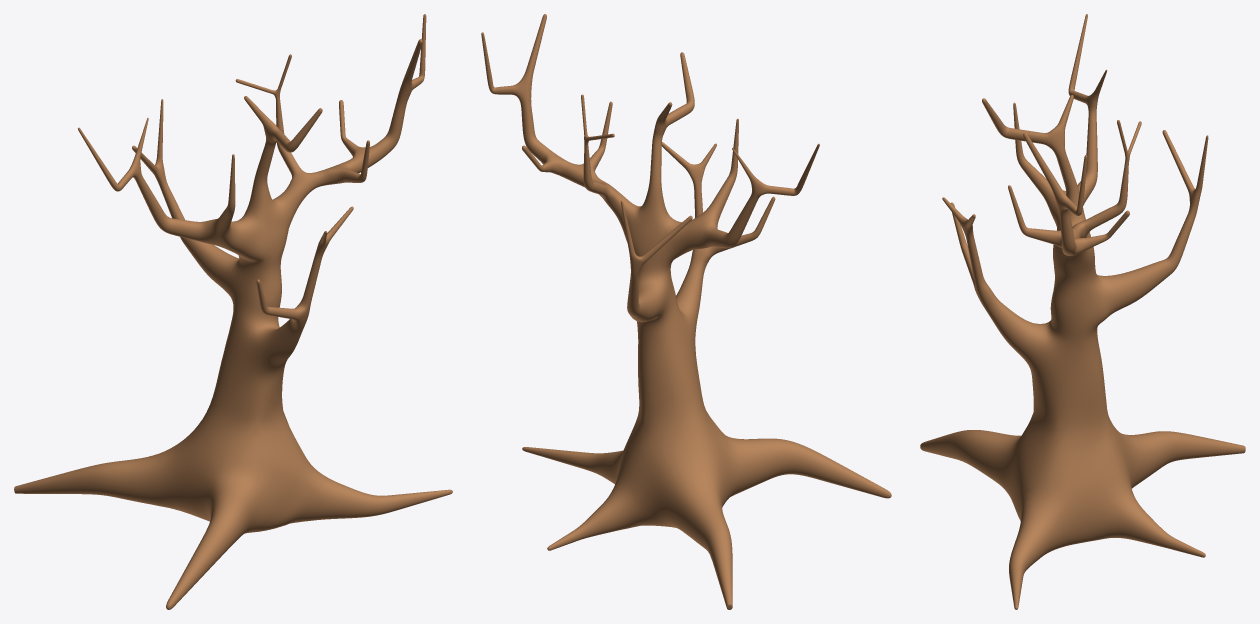
Rendered from AgacHighPoly.fbx.
The picture shows the model from 3 angles, left to right: view 1: azimuth 30°, elevation 25°; view 2: azimuth 150°, elevation 25°; view 3: azimuth 270°, elevation 25°; orthographic projection. The views are drawn at different scales.
Parts seen in each view (by area): view 1: Agac.001; view 2: Agac.001; view 3: Agac.001.
Boxes of the visible parts, left/top/right/bottom form: Agac.001: left=14, top=14, right=452, bottom=609; Agac.001: left=481, top=14, right=891, bottom=609; Agac.001: left=920, top=14, right=1245, bottom=609.
Bounding box in the file's own units: 791 × 1008 × 633.
